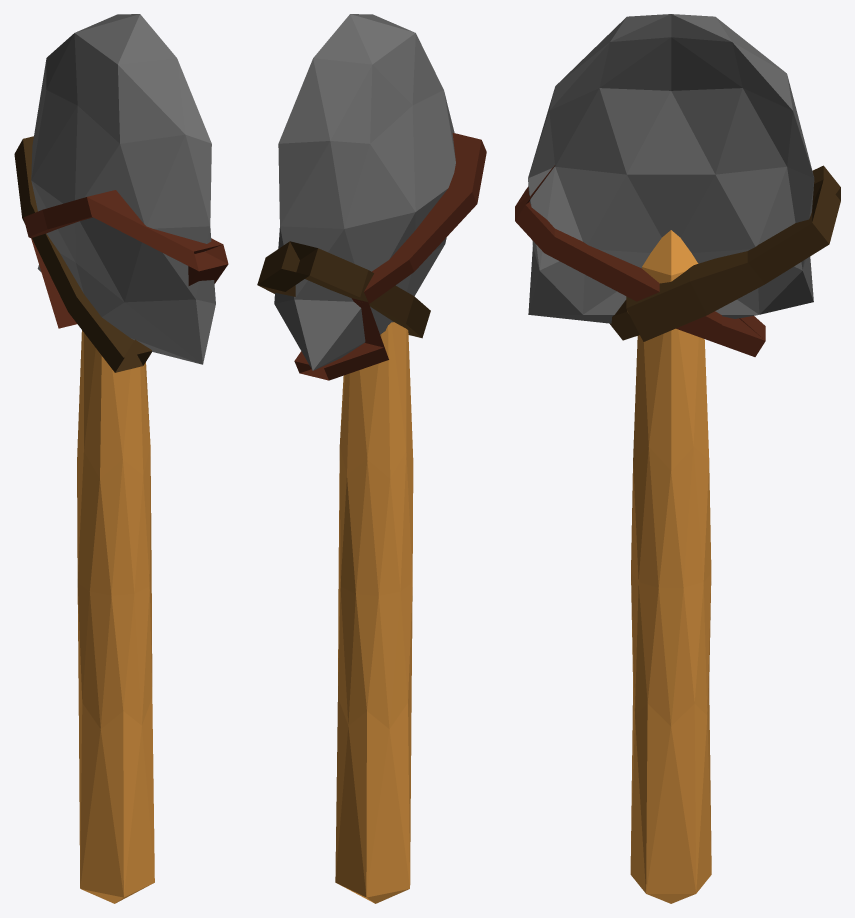
The model's file is stone_showel.fbx.
The picture shows the model from 3 angles, left to right: view 1: azimuth 30°, elevation 25°; view 2: azimuth 150°, elevation 25°; view 3: azimuth 270°, elevation 25°; orthographic projection. The views are drawn at different scales.
Visible parts, largest first — view 1: Icosphere.001, Icosphere, Cube.001, Cube; view 2: Icosphere, Icosphere.001, Cube.001, Cube; view 3: Icosphere.001, Icosphere, Cube, Cube.001.
Boxes of the visible parts, left/top/right/bottom form: Icosphere.001: left=31, top=14, right=215, bottom=364; Icosphere: left=77, top=330, right=154, bottom=903; Cube.001: left=23, top=190, right=228, bottom=328; Cube: left=14, top=136, right=151, bottom=372; Icosphere: left=335, top=322, right=413, bottom=903; Icosphere.001: left=274, top=14, right=455, bottom=370; Cube.001: left=294, top=133, right=486, bottom=380; Cube: left=257, top=241, right=430, bottom=338; Icosphere.001: left=528, top=14, right=814, bottom=323; Icosphere: left=630, top=230, right=711, bottom=903; Cube: left=610, top=165, right=840, bottom=341; Cube.001: left=515, top=165, right=765, bottom=356.
Bounding box in the file's own units: 291 × 1943 × 636.
